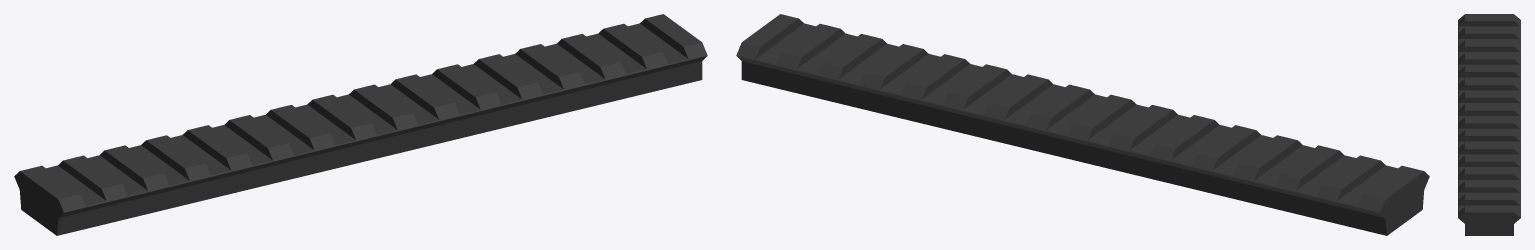
Rendered from Mod_03.fbx.
3 views of the same model, side by side, from view 1: azimuth 30°, elevation 25°; view 2: azimuth 150°, elevation 25°; view 3: azimuth 270°, elevation 25° (orthographic). The views are drawn at different scales.
Parts seen in each view (by area): view 1: Mod_03; view 2: Mod_03; view 3: Mod_03.
Boxes of the visible parts, x1=… form: Mod_03: x1=14, y1=14, x2=707, y2=235; Mod_03: x1=736, y1=14, x2=1429, y2=235; Mod_03: x1=1458, y1=14, x2=1520, y2=235.
Size of the model in its own units: 0.1844 by 0.0103 by 0.0247.
